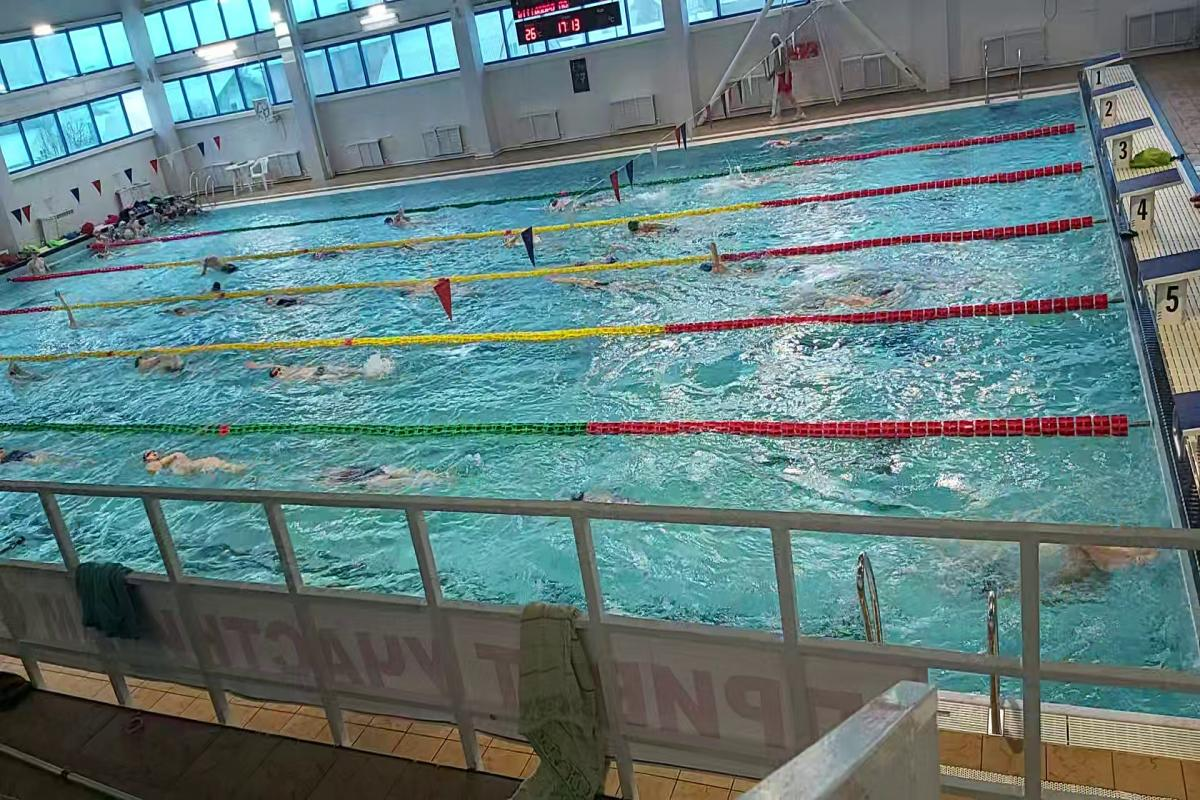swimmer: (1047, 540, 1147, 600), (132, 436, 254, 481), (242, 351, 379, 391), (321, 458, 445, 490), (812, 276, 905, 312), (131, 350, 194, 382), (699, 245, 749, 284), (261, 289, 321, 318), (56, 286, 96, 329), (191, 252, 251, 280), (621, 215, 677, 240), (544, 195, 591, 213), (382, 210, 422, 230)
